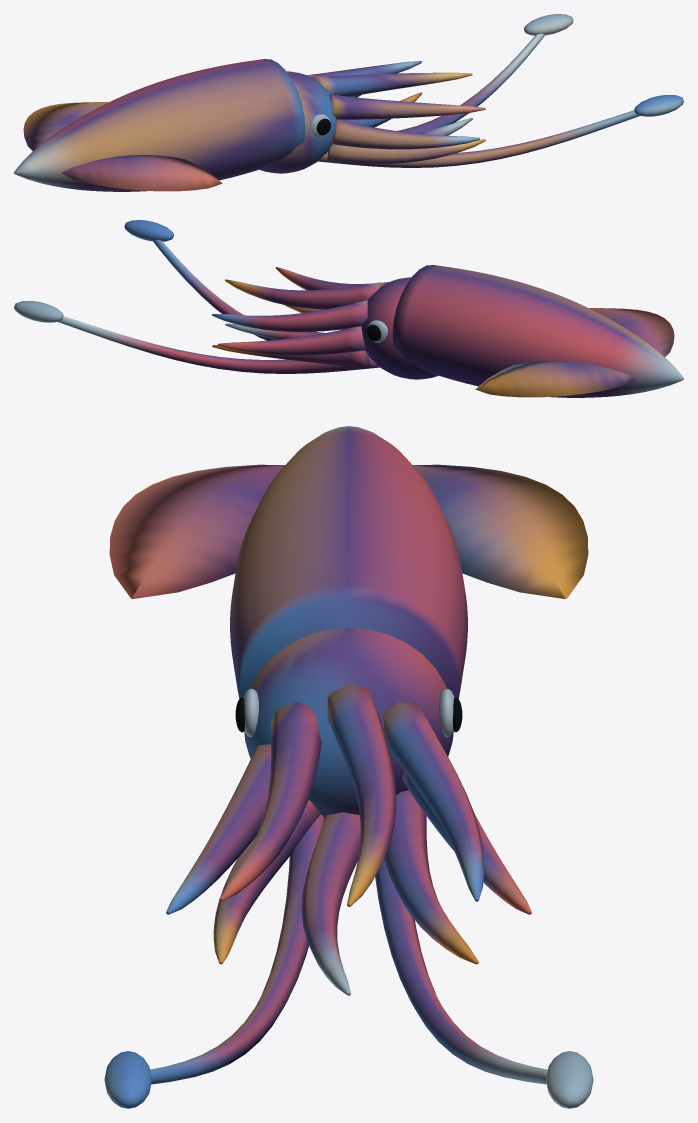
File: Fusion_Squid.glb
3 renders of one model, top to bottom at view 1: azimuth 30°, elevation 25°; view 2: azimuth 150°, elevation 25°; view 3: azimuth 270°, elevation 25°, orthographic. The views are drawn at different scales.
Parts seen in each view (by area): view 1: Fusion_Squid; view 2: Fusion_Squid; view 3: Fusion_Squid.
Part boxes in pixels (x1,y1,x2,y2): Fusion_Squid: [14, 14, 683, 191]; Fusion_Squid: [14, 220, 683, 397]; Fusion_Squid: [104, 426, 593, 1108].
Size of the model in its own units: 1.96 by 0.4021 by 0.676.
